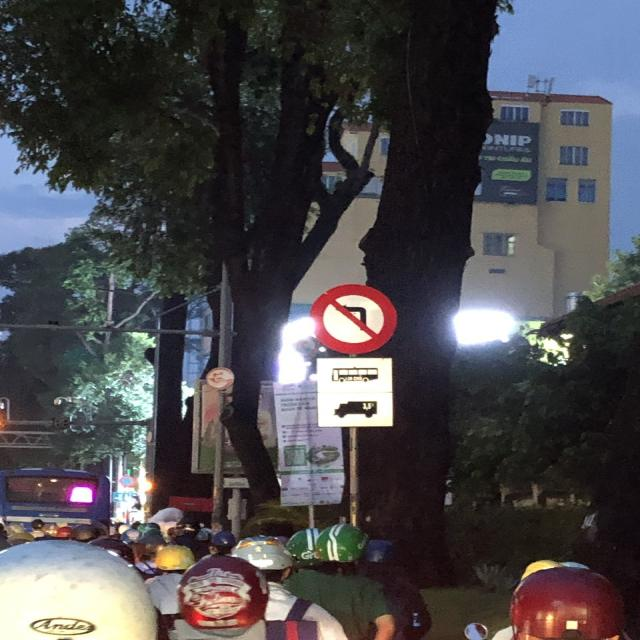Bien bao cam do xe: (299, 282, 407, 360)
